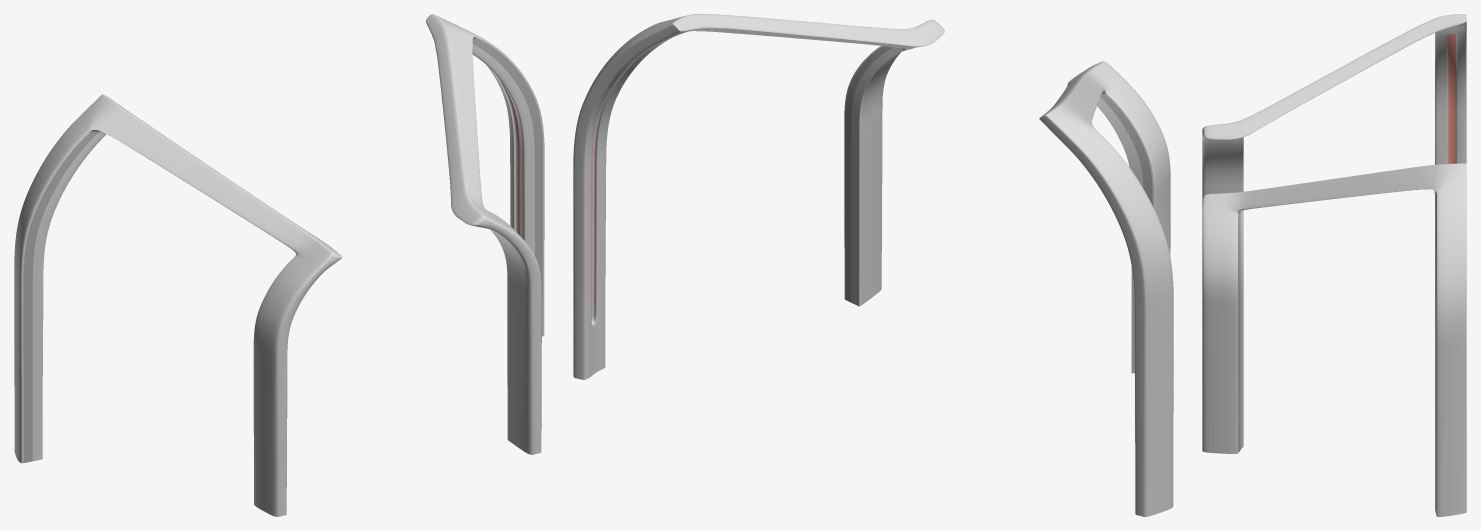
The model's file is Moonbase_Control_Room_Ceiling_Sides.fbx.
3 views of the same model, side by side, from view 1: azimuth 30°, elevation 25°; view 2: azimuth 150°, elevation 25°; view 3: azimuth 270°, elevation 25° (orthographic). The views are drawn at different scales.
Parts seen in each view (by area): view 1: Plane.006; view 2: Plane.006; view 3: Plane.006.
Boxes of the visible parts, left/top/right/bottom form: Plane.006: left=14, top=14, right=544, bottom=516; Plane.006: left=573, top=14, right=1173, bottom=516; Plane.006: left=1202, top=14, right=1466, bottom=516.
Bounding box in the file's own units: 714 × 435 × 337.
